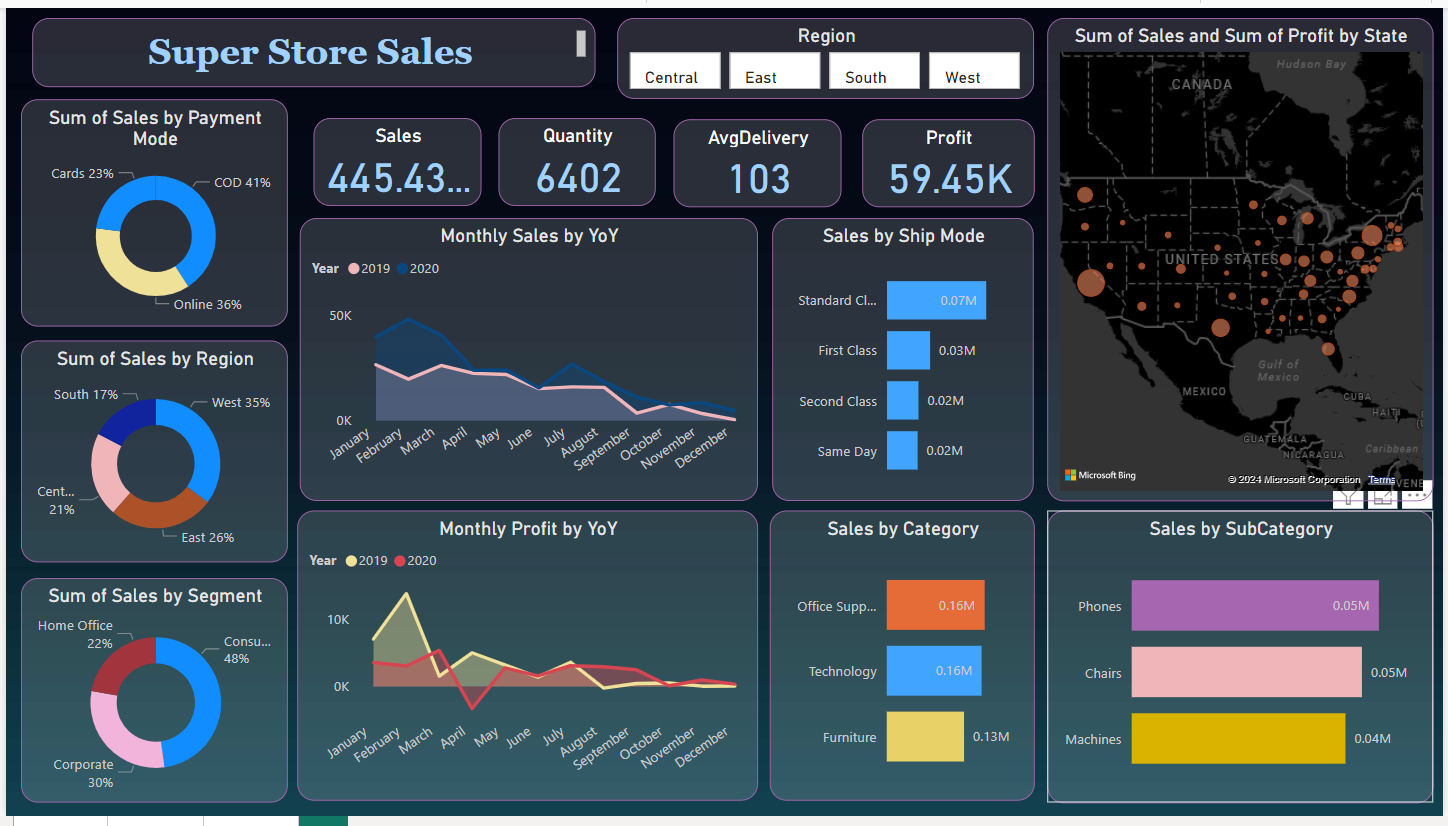

This screenshot's page, from the dashboard's own definition file:
{"tool":"powerbi","page":{"name":"Page 1","canvas":[1280,720],"ordinal":0},"visuals":[{"type":"clusteredBarChart","title":"Sales by Category","fields":{"Category":["SuperStore_Sales_Dataset.Category"],"Y":["Sum(SuperStore_Sales_Dataset.Sales)"]},"box":[680.4,447.6,247.3,258.2],"z":0},{"type":"clusteredBarChart","title":"Sales by SubCategory","fields":{"Category":["SuperStore_Sales_Dataset.Sub-Category"],"Y":["Sum(SuperStore_Sales_Dataset.Sales)"]},"box":[937.4,447.6,334.2,260.6],"z":1000},{"type":"clusteredBarChart","title":"Sales by Ship Mode","fields":{"Category":["SuperStore_Sales_Dataset.Ship Mode"],"Y":["Sum(SuperStore_Sales_Dataset.Sales)"]},"box":[682.8,187,232.8,252.1],"z":2000},{"type":"areaChart","title":"Monthly Sales by YoY","fields":{"Y":["Sum(SuperStore_Sales_Dataset.Sales)"],"Category":["SuperStore_Sales_Dataset.Order Date.Variation.Date Hierarchy.Month","SuperStore_Sales_Dataset.Order Date.Variation.Date Hierarchy.Day"],"Series":["SuperStore_Sales_Dataset.Order Date.Variation.Date Hierarchy.Year"]},"box":[261.8,187,407.8,252.1],"z":3000},{"type":"areaChart","title":"Monthly Profit by YoY","fields":{"Category":["SuperStore_Sales_Dataset.Order Date.Variation.Date Hierarchy.Month","SuperStore_Sales_Dataset.Order Date.Variation.Date Hierarchy.Day"],"Series":["SuperStore_Sales_Dataset.Order Date.Variation.Date Hierarchy.Year"],"Y":["Sum(SuperStore_Sales_Dataset.Profit)"]},"box":[259.4,447.6,410.2,258.2],"z":4000},{"type":"map","fields":{"Category":["SuperStore_Sales_Dataset.State"],"Size":["Sum(SuperStore_Sales_Dataset.Sales)"]},"box":[927.8,8.4,343.8,430.7],"z":5000},{"type":"donutChart","fields":{"Category":["SuperStore_Sales_Dataset.Payment Mode"],"Y":["Sum(SuperStore_Sales_Dataset.Sales)"]},"box":[13.3,80.8,237.7,202.7],"z":6000},{"type":"donutChart","fields":{"Category":["SuperStore_Sales_Dataset.Segment"],"Y":["Sum(SuperStore_Sales_Dataset.Sales)"]},"box":[13.3,507.9,237.7,200.3],"z":7000},{"type":"donutChart","fields":{"Y":["Sum(SuperStore_Sales_Dataset.Sales)"],"Category":["SuperStore_Sales_Dataset.Region"]},"box":[13.3,295.6,237.7,197.9],"z":8000},{"type":"advancedSlicerVisual","fields":{"Values":["SuperStore_Sales_Dataset.Region"]},"box":[544.1,8.4,371.6,72.4],"z":9000},{"type":"textbox","box":[22.9,8.4,501.9,61.5],"z":10000},{"type":"card","title":"Sales","fields":{"Values":["Sum(SuperStore_Sales_Dataset.Sales)"]},"box":[273.9,97.7,149.6,78.4],"z":11000},{"type":"card","title":"Quantity","fields":{"Values":["Sum(SuperStore_Sales_Dataset.Quantity)"]},"box":[439.1,97.7,139.9,78.4],"z":12000},{"type":"card","title":"Profit","fields":{"Values":["Sum(SuperStore_Sales_Dataset.Profit)"]},"box":[762.5,98.9,153.2,78.4],"z":13000},{"type":"card","title":"AvgDelivery","fields":{"Values":["Avg(SuperStore_Sales_Dataset.AvgDelivery)"]},"box":[594.8,98.9,149.6,78.4],"z":14000}]}

Visuals, with their boxes in screenshot pixels (x1, y1, x2, y2), scaled from the page's 1280x720 canvas onto the 1448x826 screenshot:
"Sales by Category" clusteredBarChart: [770, 513, 1049, 810]
"Sales by SubCategory" clusteredBarChart: [1060, 513, 1438, 812]
"Sales by Ship Mode" clusteredBarChart: [772, 215, 1036, 504]
"Monthly Sales by YoY" areaChart: [296, 215, 757, 504]
"Monthly Profit by YoY" areaChart: [293, 513, 757, 810]
map - SuperStore_Sales_Dataset.State x Sum(SuperStore_Sales_Dataset.Sales): [1050, 10, 1438, 504]
donutChart - SuperStore_Sales_Dataset.Payment Mode x Sum(SuperStore_Sales_Dataset.Sales): [15, 93, 284, 325]
donutChart - SuperStore_Sales_Dataset.Segment x Sum(SuperStore_Sales_Dataset.Sales): [15, 583, 284, 812]
donutChart - Sum(SuperStore_Sales_Dataset.Sales) x SuperStore_Sales_Dataset.Region: [15, 339, 284, 566]
advancedSlicerVisual - SuperStore_Sales_Dataset.Region: [616, 10, 1036, 93]
textbox: [26, 10, 594, 80]
"Sales" card: [310, 112, 479, 202]
"Quantity" card: [497, 112, 655, 202]
"Profit" card: [863, 113, 1036, 203]
"AvgDelivery" card: [673, 113, 842, 203]
